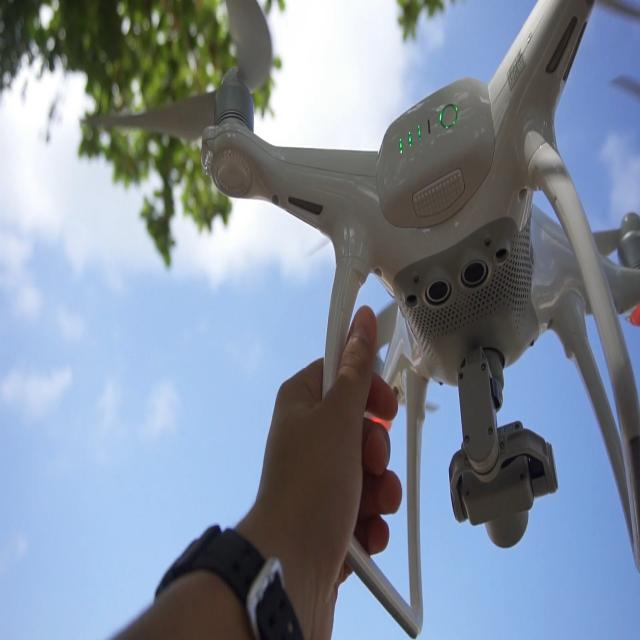Drone: (154, 0, 640, 526)
